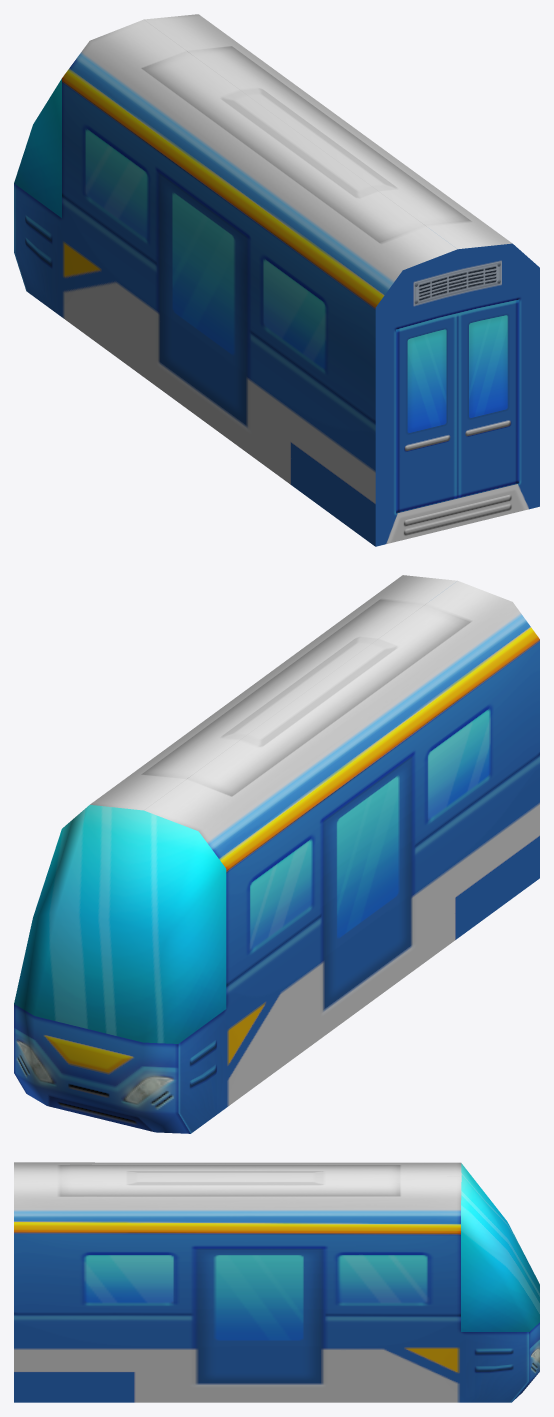
Rendered from Train_Blue_Head.fbx.
3 renders of one model, top to bottom at view 1: azimuth 30°, elevation 25°; view 2: azimuth 150°, elevation 25°; view 3: azimuth 270°, elevation 25°, orthographic. The views are drawn at different scales.
Visible parts, largest first — view 1: Train_Blue_Head; view 2: Train_Blue_Head; view 3: Train_Blue_Head.
Part boxes in pixels (box(x1,y1,x2,y2)): Train_Blue_Head: box(14, 14, 539, 546); Train_Blue_Head: box(14, 575, 539, 1133); Train_Blue_Head: box(14, 1162, 539, 1402).
Bounding box in the file's own units: 481 × 775 × 1869.
